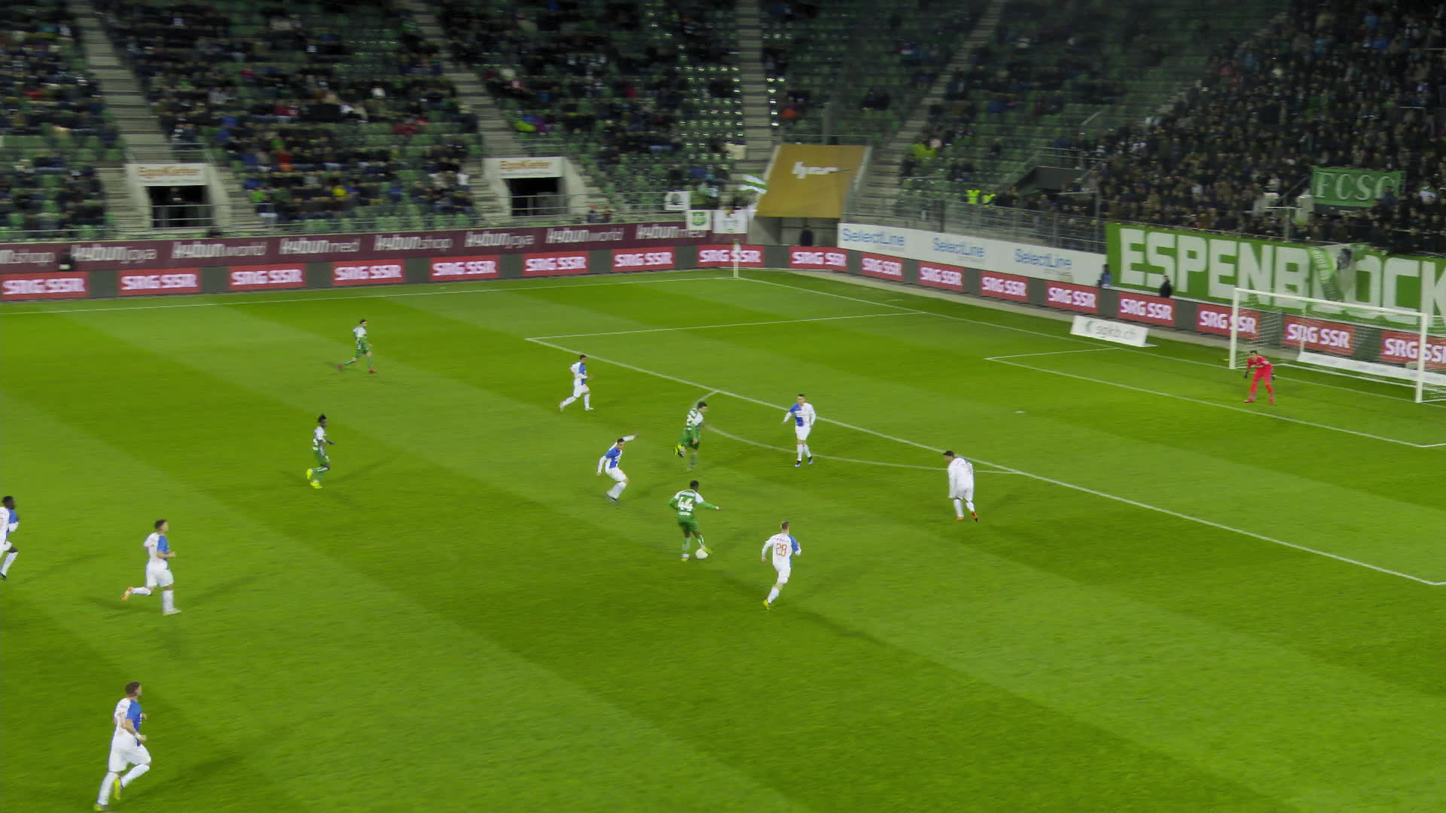ball: (697, 547, 707, 558)
player: (80, 676, 159, 805), (133, 517, 184, 620), (588, 434, 648, 504), (760, 519, 803, 611), (677, 401, 723, 477), (677, 480, 717, 562), (302, 413, 344, 490), (946, 446, 982, 522), (786, 396, 822, 465), (563, 355, 602, 416), (349, 318, 383, 376), (1246, 350, 1283, 403), (0, 495, 20, 582)
